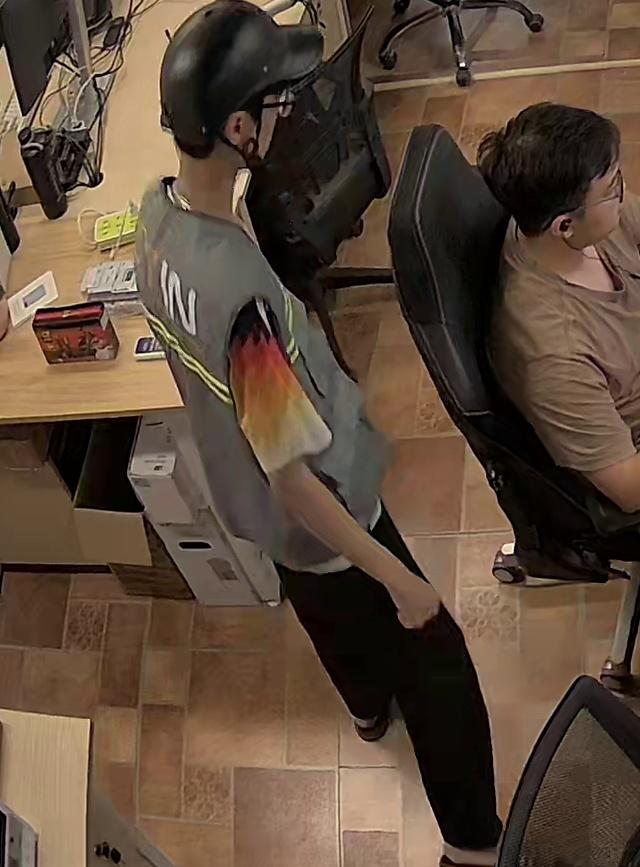helmet: (161, 1, 323, 147)
no_helmet: (480, 104, 618, 239)
none: (492, 201, 635, 487)
vest: (135, 180, 386, 570)
